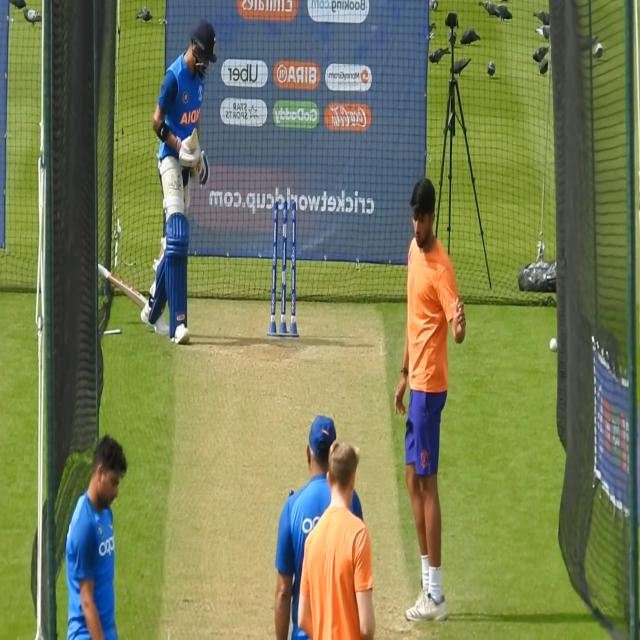stump: (270, 196, 298, 342)
